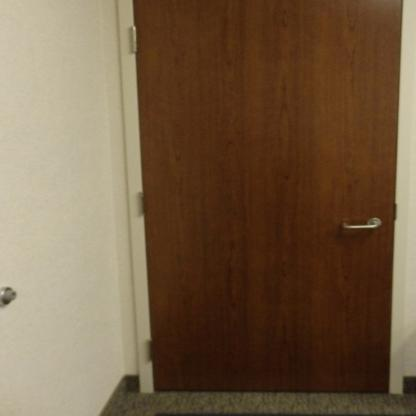door: (136, 0, 402, 394)
hinged: (126, 25, 142, 55), (136, 189, 152, 216), (148, 338, 159, 362)
lever: (343, 221, 384, 234)
